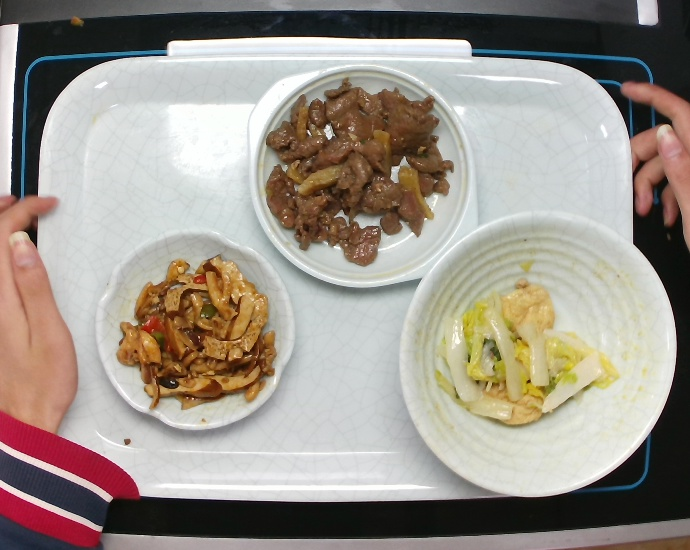JYsf-Ao_Yuan_Wan: (87, 227, 303, 438)
JYsf-Shuang_Er_Pan: (239, 61, 487, 290)
JYsf-Xiao_Tang_Wan: (378, 199, 688, 505)
